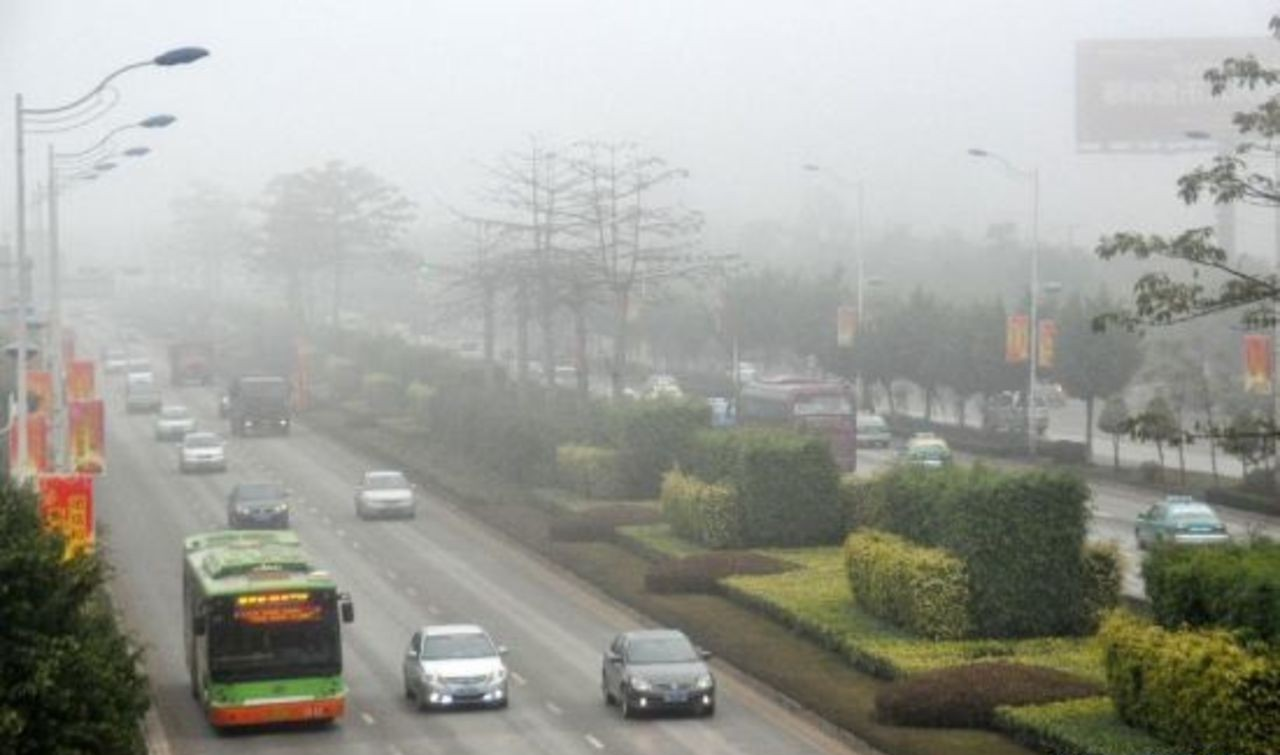bus: (181, 534, 346, 735), (729, 375, 858, 476)
car: (597, 629, 717, 720), (402, 622, 510, 711), (1134, 499, 1234, 550), (226, 481, 293, 529), (354, 470, 416, 521), (983, 393, 1050, 437), (178, 430, 229, 471), (903, 437, 949, 472), (856, 412, 892, 451), (152, 403, 190, 438), (126, 381, 160, 410), (100, 350, 127, 372)
truck: (230, 372, 290, 437), (167, 341, 211, 384)
